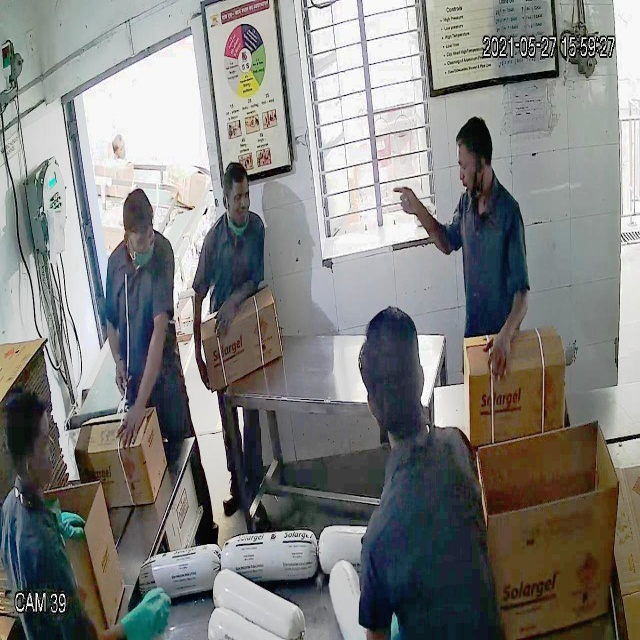Sin_gafas: (122, 223, 158, 252), (455, 151, 488, 179)
